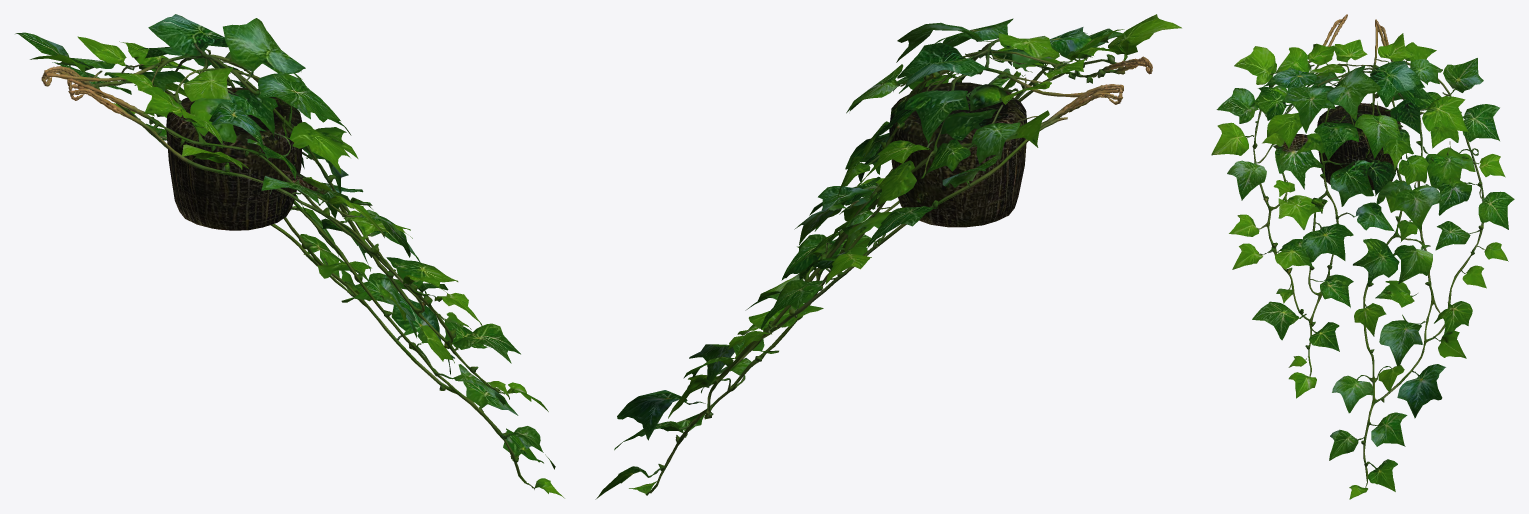
The model's file is vine1.glb.
3 renders of one model, left to right at view 1: azimuth 30°, elevation 25°; view 2: azimuth 150°, elevation 25°; view 3: azimuth 270°, elevation 25°, orthographic. The views are drawn at different scales.
Visible parts, largest first — view 1: Object_4; view 2: Object_4; view 3: Object_4.
Boxes of the visible parts, box(x1,y1,x2,y2) form: Object_4: box(15, 14, 564, 498); Object_4: box(595, 14, 1181, 499); Object_4: box(1211, 14, 1514, 499).
Size of the model in its own units: 0.9746 by 0.998 by 0.8184.
Materials: 1 (1 with a texture image).
